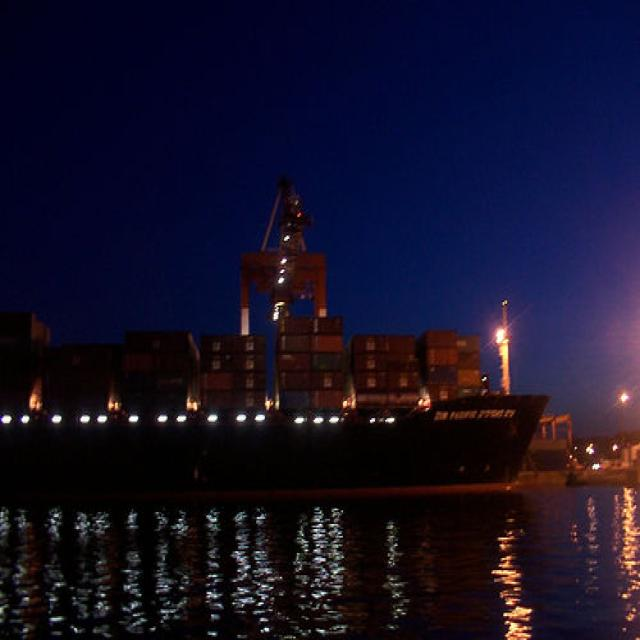boat: (1, 392, 548, 499)
